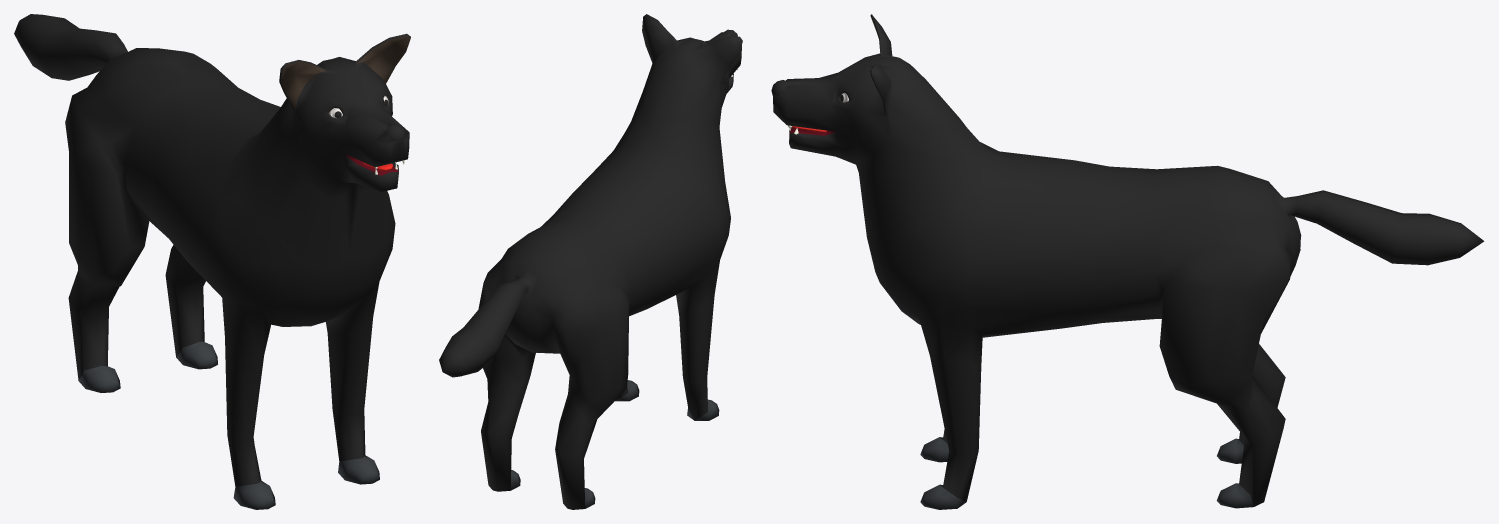
The model's file is siyah köpke.fbx.
3 renders of one model, left to right at view 1: azimuth 30°, elevation 25°; view 2: azimuth 150°, elevation 25°; view 3: azimuth 270°, elevation 25°, orthographic. The views are drawn at different scales.
Parts seen in each view (by area): view 1: Black Dog.004; view 2: Black Dog.004; view 3: Black Dog.004.
Part boxes in pixels (<box>): Black Dog.004: <box>14,14,410,509</box>; Black Dog.004: <box>439,14,742,509</box>; Black Dog.004: <box>771,14,1484,509</box>.
Bounding box in the file's own units: 22.83 × 57.9 × 85.72.
Materials: 1 (1 with a texture image).
